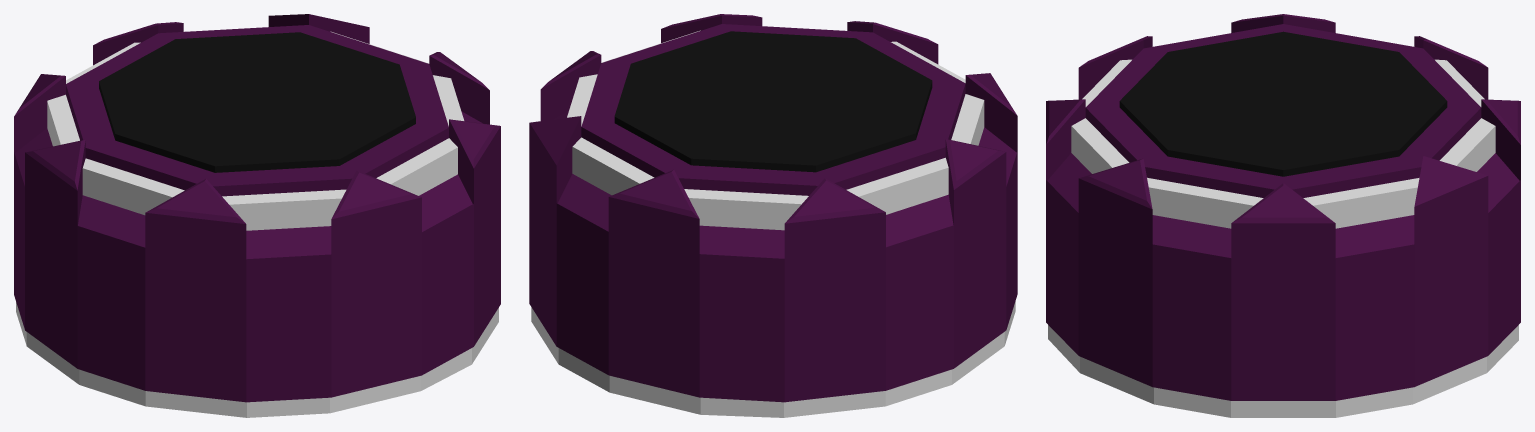
3 views of the same model, side by side, from view 1: azimuth 30°, elevation 25°; view 2: azimuth 150°, elevation 25°; view 3: azimuth 270°, elevation 25° (orthographic).
Parts seen in each view (by area): view 1: Cylinder, Cylinder.002, Cylinder.001, Cylinder.003; view 2: Cylinder, Cylinder.002, Cylinder.001, Cylinder.003; view 3: Cylinder, Cylinder.002, Cylinder.001, Cylinder.003.
Boxes of the visible parts, x1,y1,x2,y2 form: Cylinder: (14,14,500,402); Cylinder.002: (99,32,415,172); Cylinder.001: (47,31,464,230); Cylinder.003: (16,302,498,417); Cylinder: (529,14,1017,402); Cylinder.002: (614,31,932,172); Cylinder.001: (567,30,984,230); Cylinder.003: (531,301,1015,417); Cylinder: (1046,14,1520,400); Cylinder.002: (1119,31,1447,176); Cylinder.001: (1071,59,1495,228); Cylinder.003: (1048,325,1518,417).
Size of the model in its own units: 183 by 94.6 by 183.
